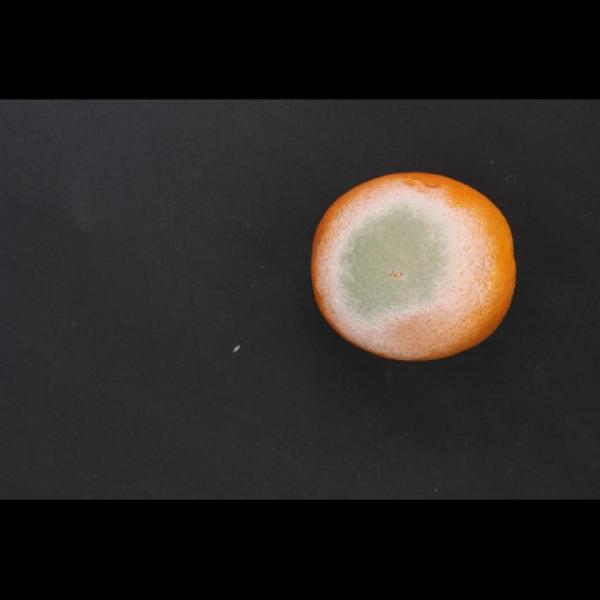Moho verde: (303, 157, 531, 393)
